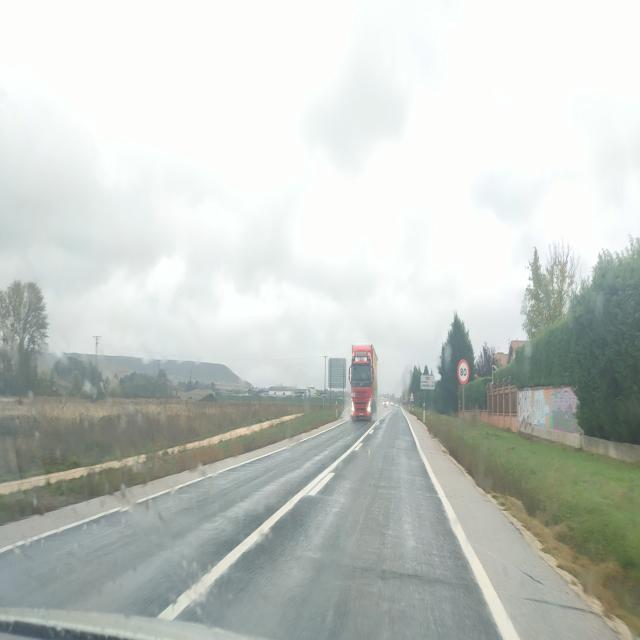Poth-hole: (371, 562, 429, 589)
